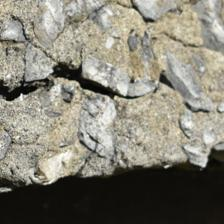Crack: (3, 49, 182, 112)
